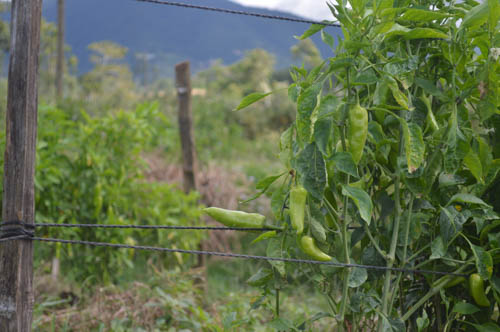ChiliPepper: (201, 206, 263, 234), (343, 104, 369, 168), (285, 186, 307, 238), (296, 239, 328, 260), (469, 273, 486, 306)
